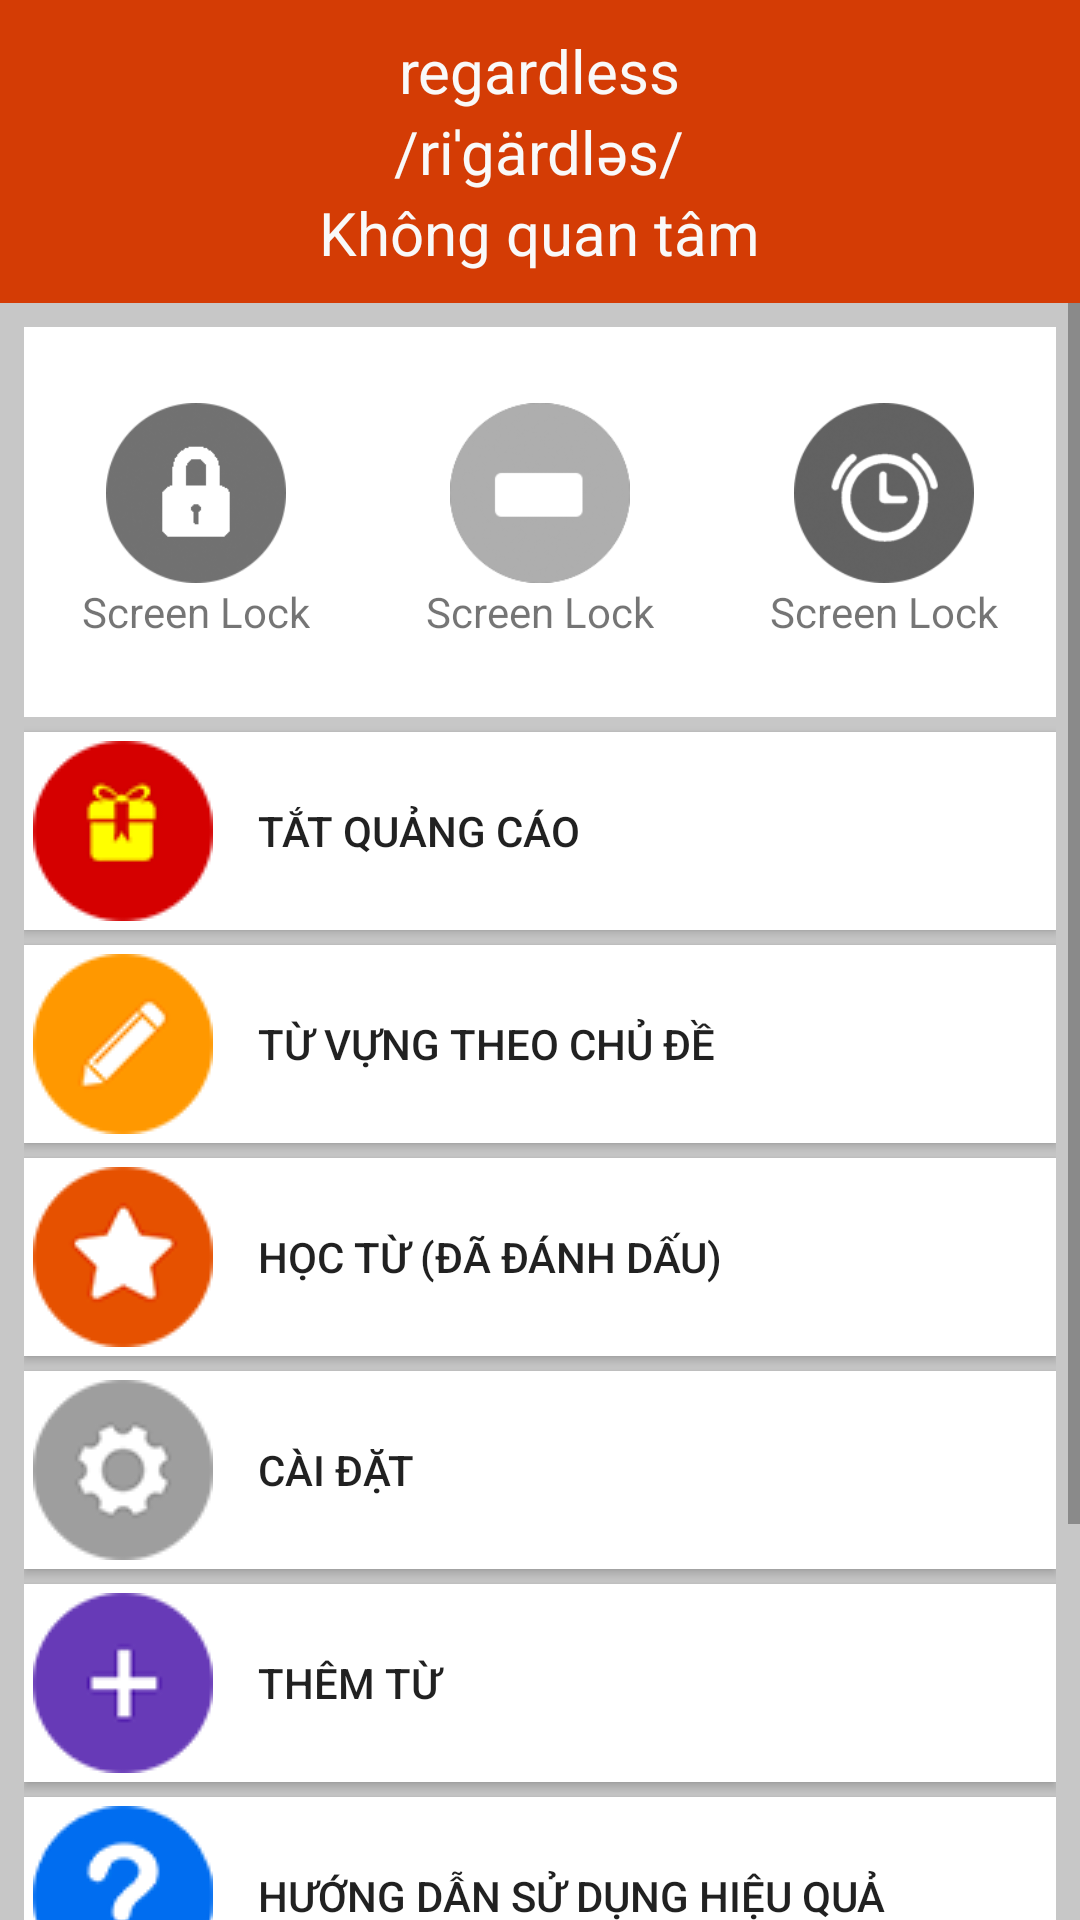

Where to tap for icons on this 1080×1920 app screen, as (x,y):
lock off: (196,493)
smallwindow off: (540,493)
